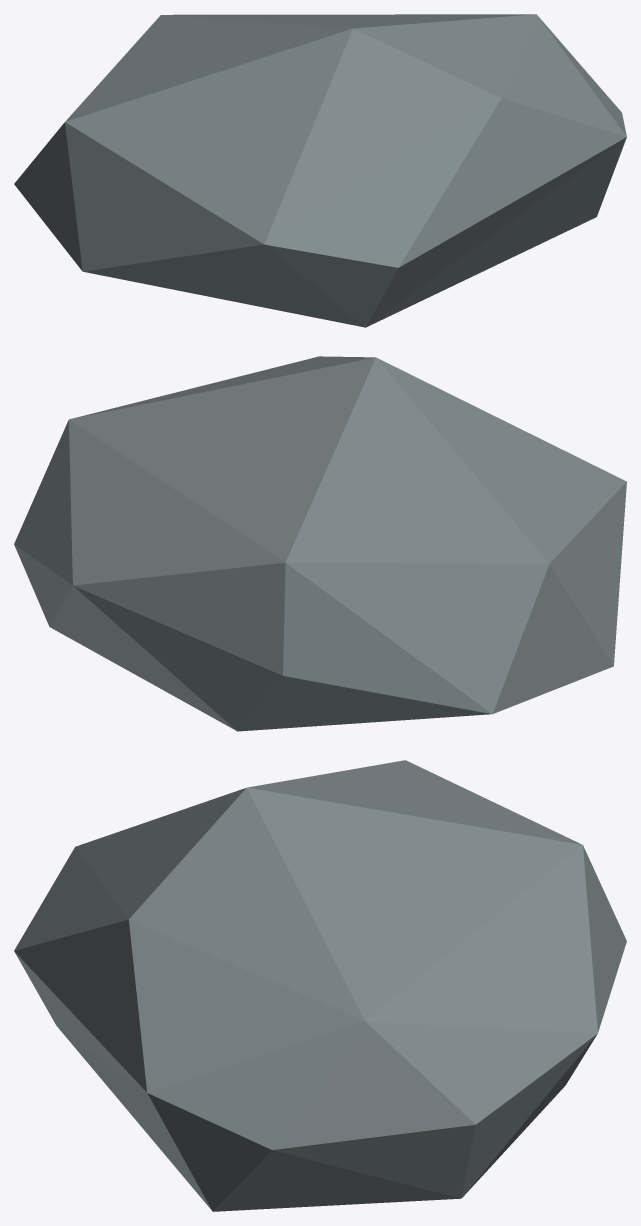
File: Rock_01.fbx
3 renders of one model, top to bottom at view 1: azimuth 30°, elevation 25°; view 2: azimuth 150°, elevation 25°; view 3: azimuth 270°, elevation 25°, orthographic. The views are drawn at different scales.
Visible parts, largest first — view 1: Rock_01; view 2: Rock_01; view 3: Rock_01.
Boxes of the visible parts, x1,y1,x2,y2 form: Rock_01: (14, 14, 626, 327); Rock_01: (14, 356, 626, 731); Rock_01: (14, 760, 626, 1211).
Bounding box in the file's own units: 43.94 × 19.69 × 36.44.
